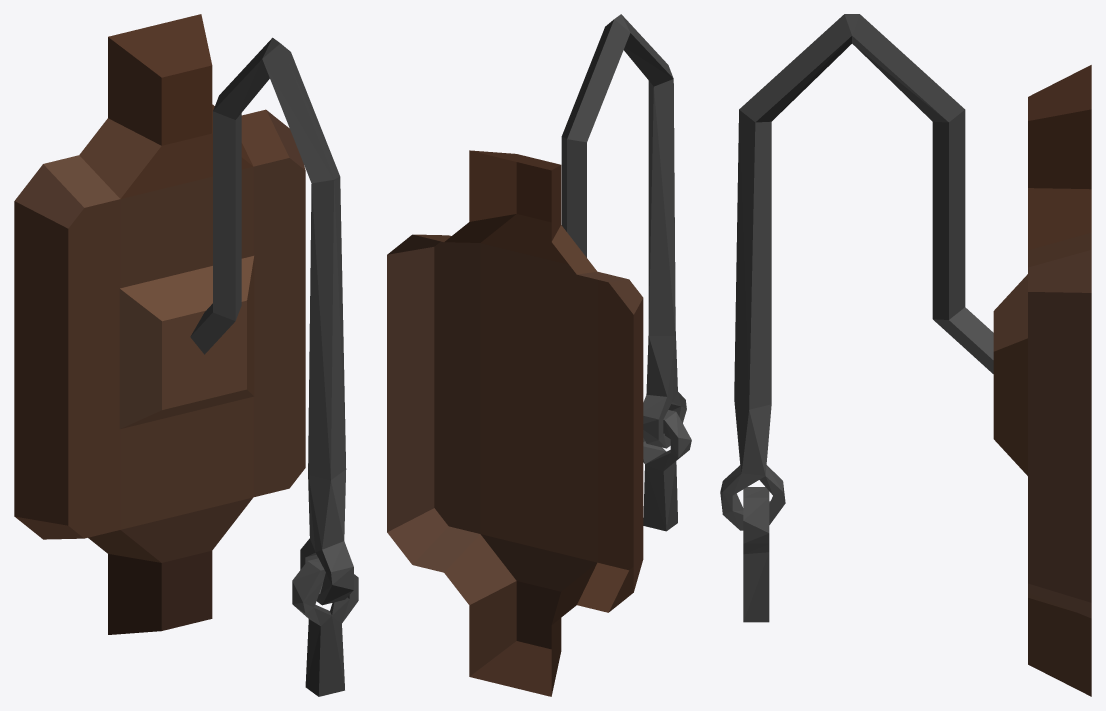
File: Prop_LanternMount.fbx
The picture shows the model from 3 angles, left to right: view 1: azimuth 30°, elevation 25°; view 2: azimuth 150°, elevation 25°; view 3: azimuth 270°, elevation 25°; orthographic projection. The views are drawn at different scales.
Visible parts, largest first — view 1: Prop_LanternMount; view 2: Prop_LanternMount; view 3: Prop_LanternMount.
Boxes of the visible parts, x1,y1,x2,y2 form: Prop_LanternMount: (14,14,358,696); Prop_LanternMount: (387,14,691,696); Prop_LanternMount: (720,14,1091,696).
Size of the model in its own units: 17.73 by 40.65 by 20.72.
